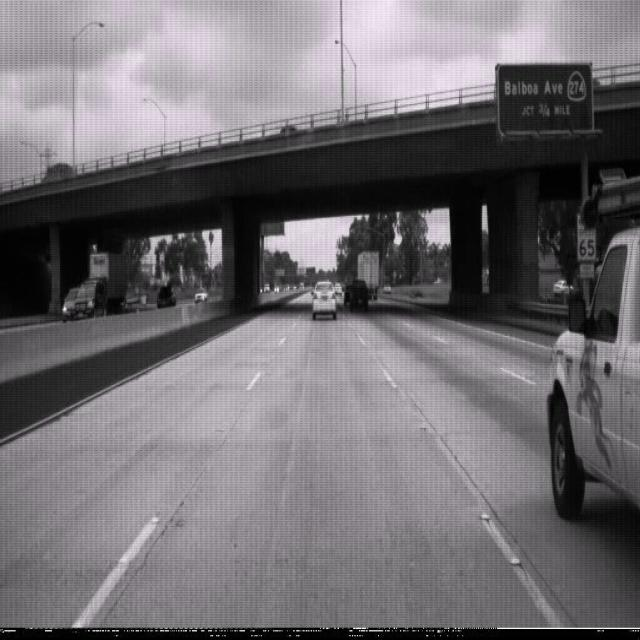speedLimit65: (576, 210, 596, 261)
